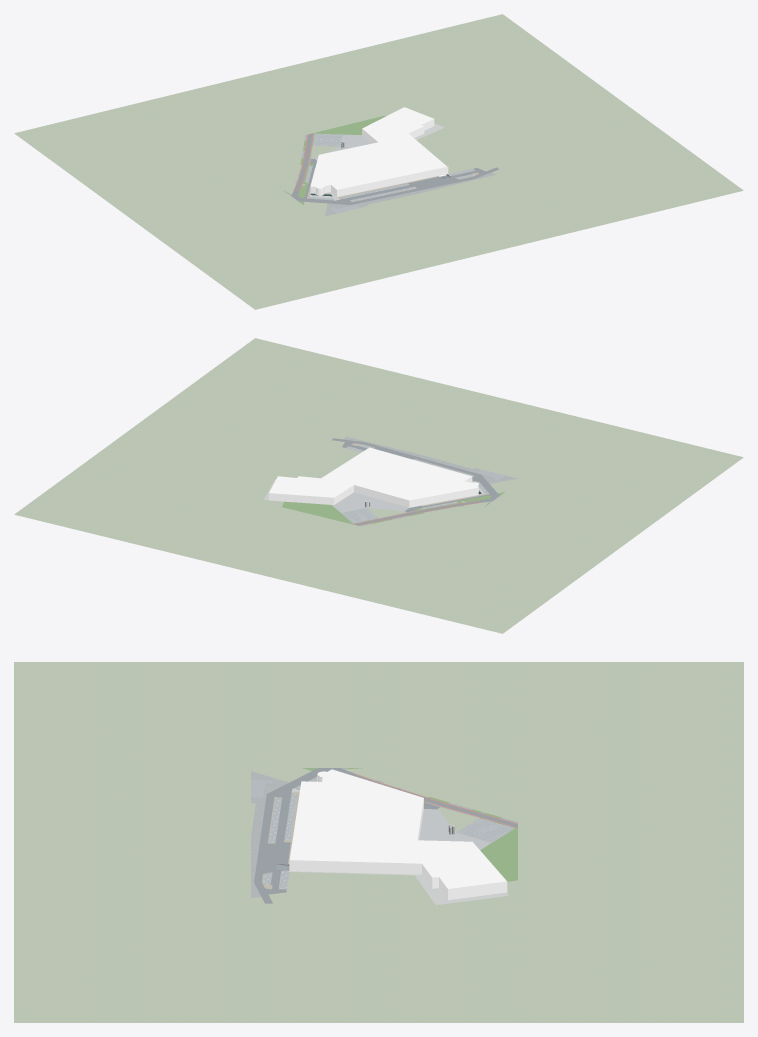
The model's file is site.glb.
3 views of the same model, one above another, from view 1: azimuth 30°, elevation 25°; view 2: azimuth 150°, elevation 25°; view 3: azimuth 270°, elevation 25° (orthographic). The views are drawn at different scales.
Parts seen in each view (by area): view 1: site, pickBld; view 2: site, pickBld; view 3: site, pickBld.
Boxes of the visible parts, x1=… form: site: x1=14, y1=14, x2=743, y2=309; pickBld: x1=310, y1=107, x2=448, y2=196; site: x1=14, y1=338, x2=743, y2=633; pickBld: x1=269, y1=447, x2=478, y2=507; site: x1=14, y1=662, x2=743, y2=1022; pickBld: x1=289, y1=769, x2=507, y2=900.
Bounding box in the file's own units: 620 × 10.15 × 530.
Materials: 17 (9 with a texture image).
